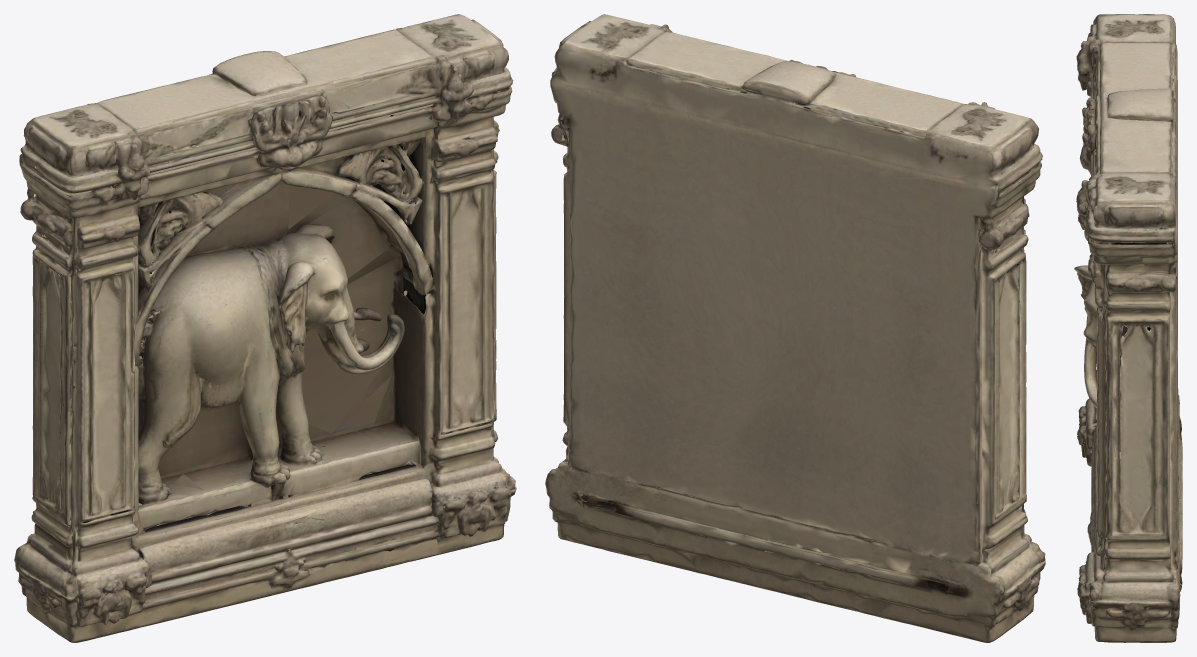
File: sandstone-wall-panel-elephant-line-art-optimized.glb
3 renders of one model, left to right at view 1: azimuth 30°, elevation 25°; view 2: azimuth 150°, elevation 25°; view 3: azimuth 270°, elevation 25°, orthographic. The views are drawn at different scales.
Visible parts, largest first — view 1: world; view 2: world; view 3: world.
Part boxes in pixels (x1,y1,x2,y2): world: (14,14,516,642); world: (545,14,1045,642); world: (1074,14,1182,642).
Size of the model in its own units: 2.84 by 3 by 0.6503.
Materials: 1 (1 with a texture image).
